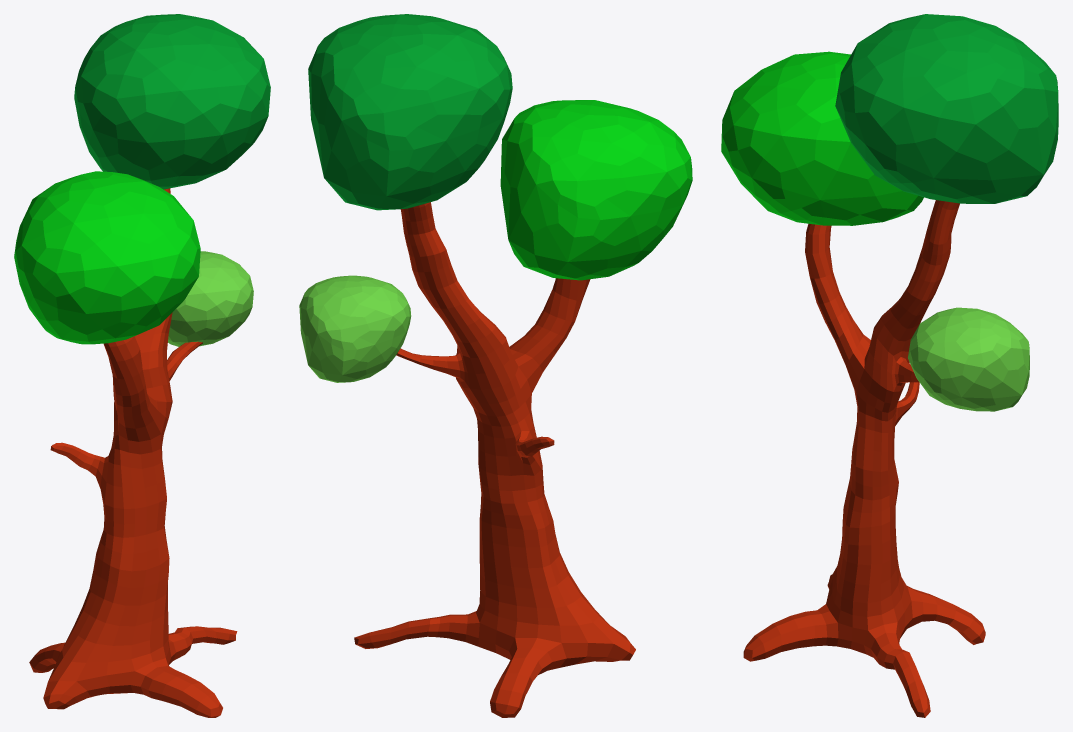
Rendered from pohon2.fbx.
3 renders of one model, left to right at view 1: azimuth 30°, elevation 25°; view 2: azimuth 150°, elevation 25°; view 3: azimuth 270°, elevation 25°, orthographic. The views are drawn at different scales.
Parts seen in each view (by area): view 1: Cube.001, Icosphere, Icosphere.001, Icosphere.002; view 2: Cube.001, Icosphere, Icosphere.001, Icosphere.002; view 3: Icosphere, Cube.001, Icosphere.001, Icosphere.002.
Boxes of the visible parts, left/top/right/bottom form: Cube.001: left=29, top=188, right=237, bottom=717; Icosphere: left=74, top=14, right=270, bottom=189; Icosphere.001: left=14, top=171, right=200, bottom=344; Icosphere.002: left=168, top=251, right=253, bottom=346; Cube.001: left=354, top=202, right=635, bottom=717; Icosphere: left=308, top=14, right=512, bottom=210; Icosphere.001: left=500, top=100, right=692, bottom=280; Icosphere.002: left=299, top=275, right=411, bottom=382; Icosphere: left=835, top=14, right=1058, bottom=203; Cube.001: left=743, top=200, right=985, bottom=717; Icosphere.001: left=721, top=51, right=923, bottom=225; Icosphere.002: left=908, top=307, right=1029, bottom=411.
Bounding box in the file's own units: 413 × 851 × 389.
